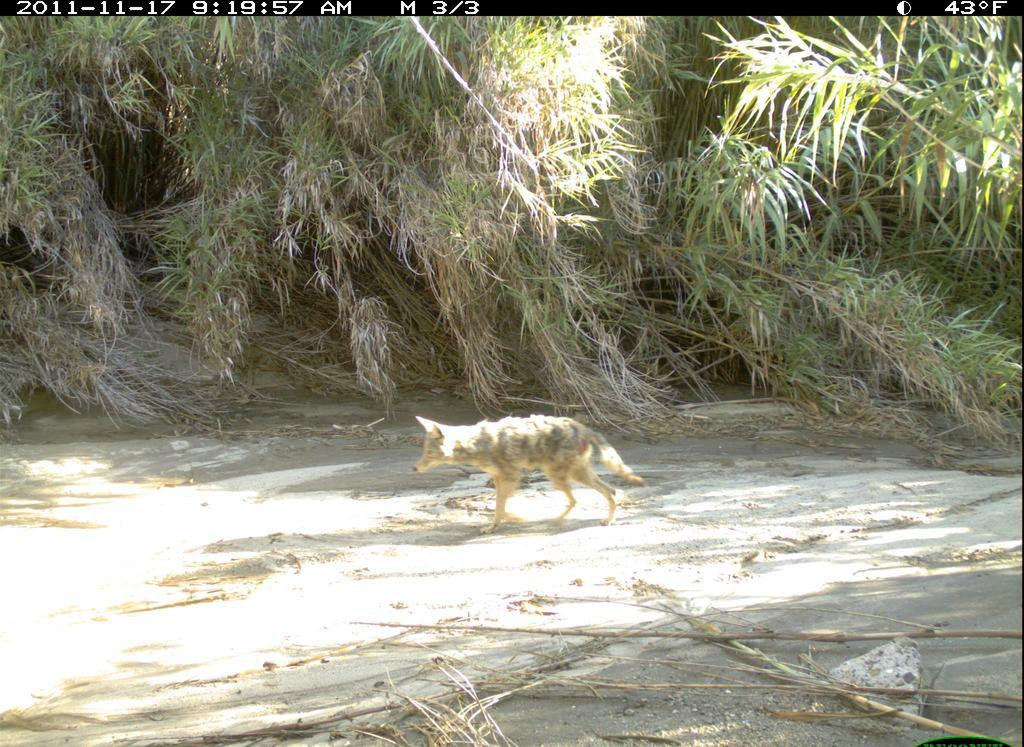coyote: (411, 401, 658, 541)
